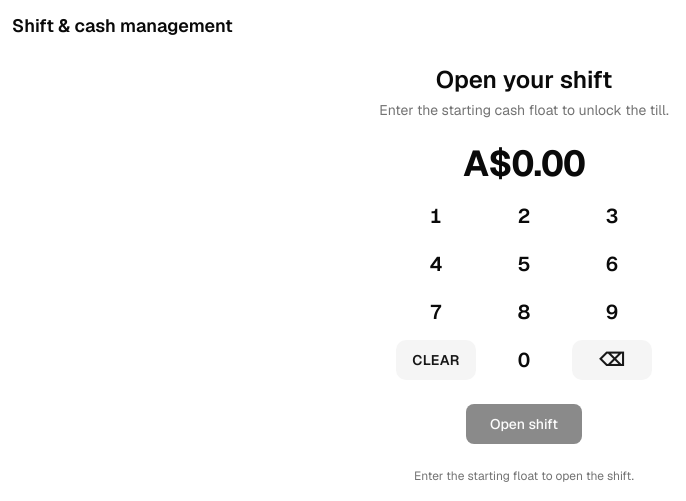
ShiftScreen - open shift › PE-10: an Australian till counts its float in A$
The image size is (686, 501).
Check: the element with test id "open-shift-form" is shown, box [379,64,669,484]
What coordinates should you click on to do the following:
click the button with test id "open-shift-keypad-digit-5"
I would click on:
 (524, 264)
Its box is [484,244,564,284].
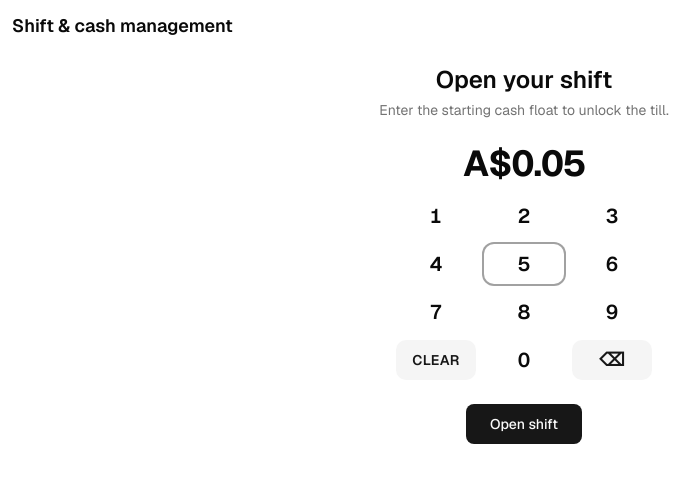
Check: the text with test id "open-shift-keypad-display" reads "A$0.05", box [463,140,585,187]
